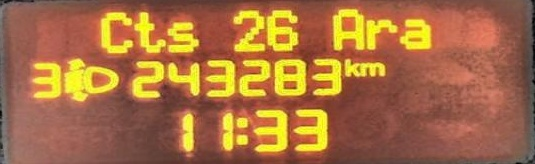1: (178, 110, 195, 151), (217, 110, 232, 150)
2: (232, 8, 266, 51), (238, 57, 270, 97), (132, 58, 163, 97)
3: (254, 107, 289, 152), (294, 106, 327, 153), (205, 57, 234, 98), (311, 56, 342, 94), (32, 61, 63, 98)
4: (166, 61, 199, 96)
6: (267, 8, 302, 52)
8: (274, 57, 307, 96)
X: (330, 8, 365, 51), (99, 9, 132, 54), (134, 10, 166, 54), (364, 17, 398, 50), (167, 18, 198, 53), (400, 15, 432, 48), (235, 115, 250, 148), (343, 56, 363, 78), (360, 62, 387, 77)
